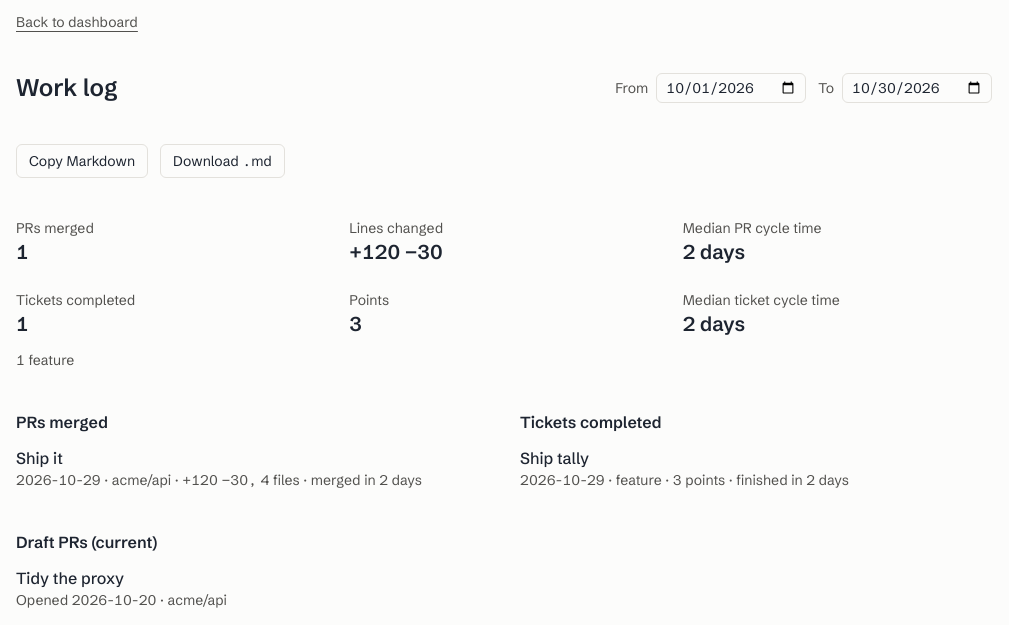
Test case: WorkLog › asks for both dates instead of fetching when one is cleared
This screenshot has width=1009, height=625.
Check: the element "PRs merged" is shown, box [16,410,488,490]
Step 1. Clear the date field labelled "To" → (917,88), box [842,73,992,103]
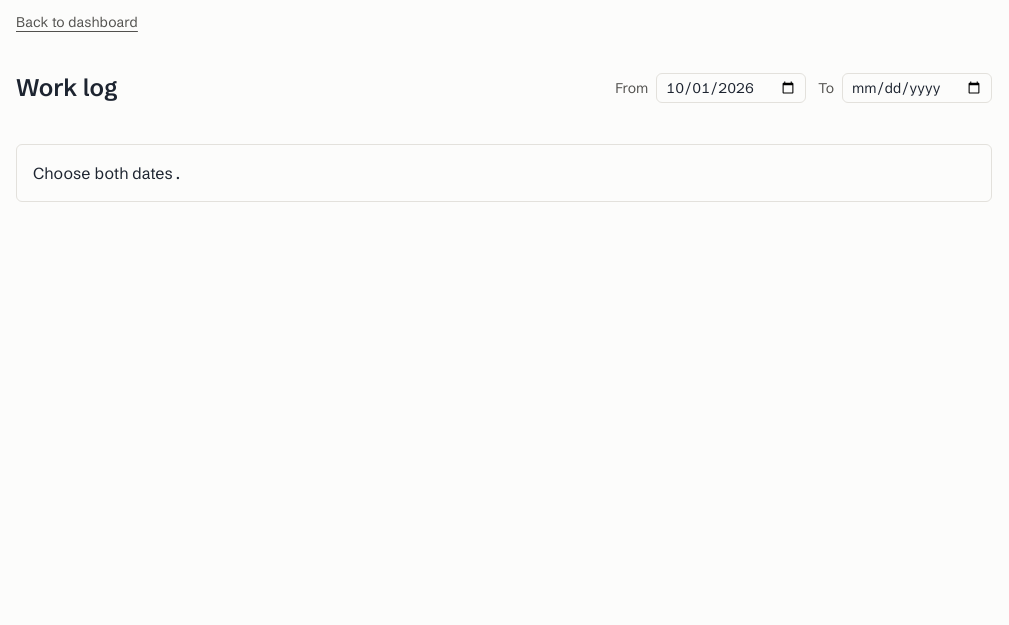
Check: the message shows "Choose both dates", box [33,163,183,183]
Check: the text "PRs merged" is gone
